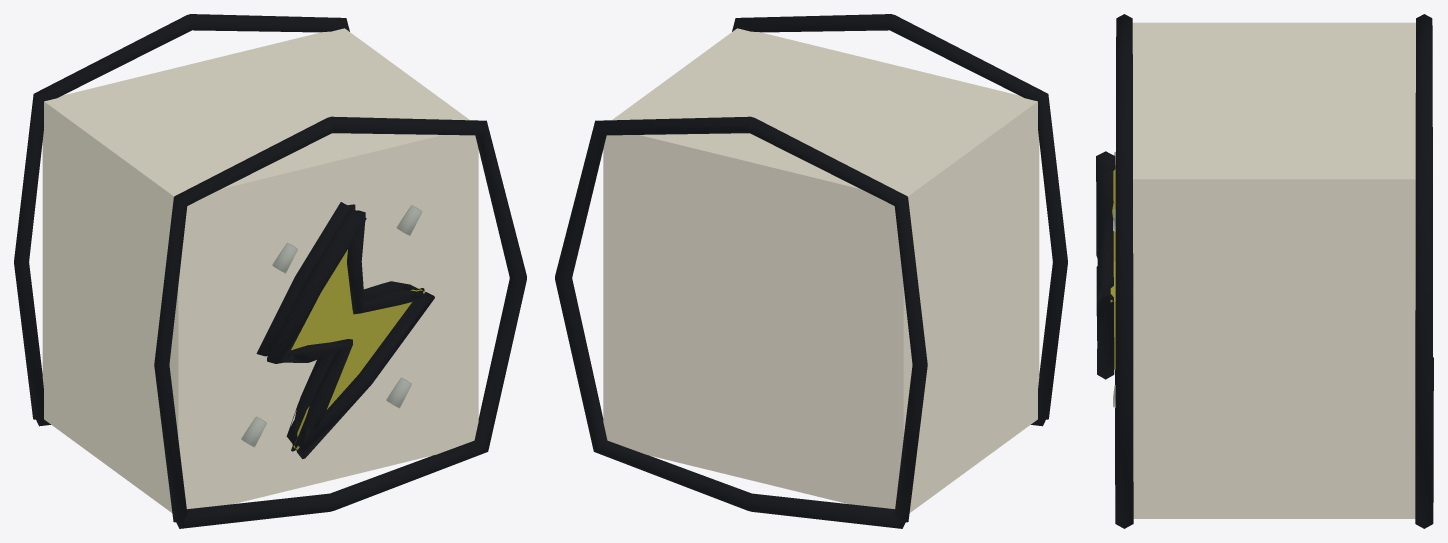
The model's file is haste.glb.
3 views of the same model, side by side, from view 1: azimuth 30°, elevation 25°; view 2: azimuth 150°, elevation 25°; view 3: azimuth 270°, elevation 25° (orthographic). The views are drawn at different scales.
Parts seen in each view (by area): view 1: haste_Game; view 2: haste_Game; view 3: haste_Game.
Boxes of the visible parts, box(x1,y1,x2,y2) form: haste_Game: box(14, 14, 526, 528); haste_Game: box(555, 14, 1067, 528); haste_Game: box(1096, 14, 1433, 528).
Bounding box in the file's own units: 1.08 × 1.09 × 0.793.
